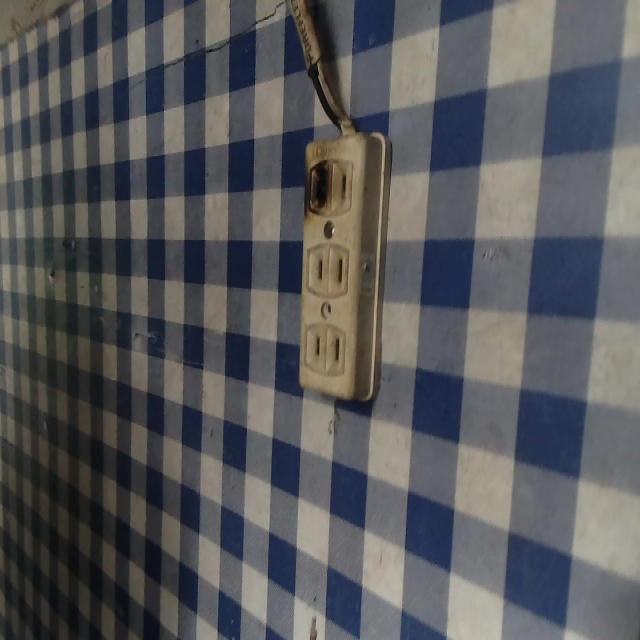-: (301, 158, 332, 214)
